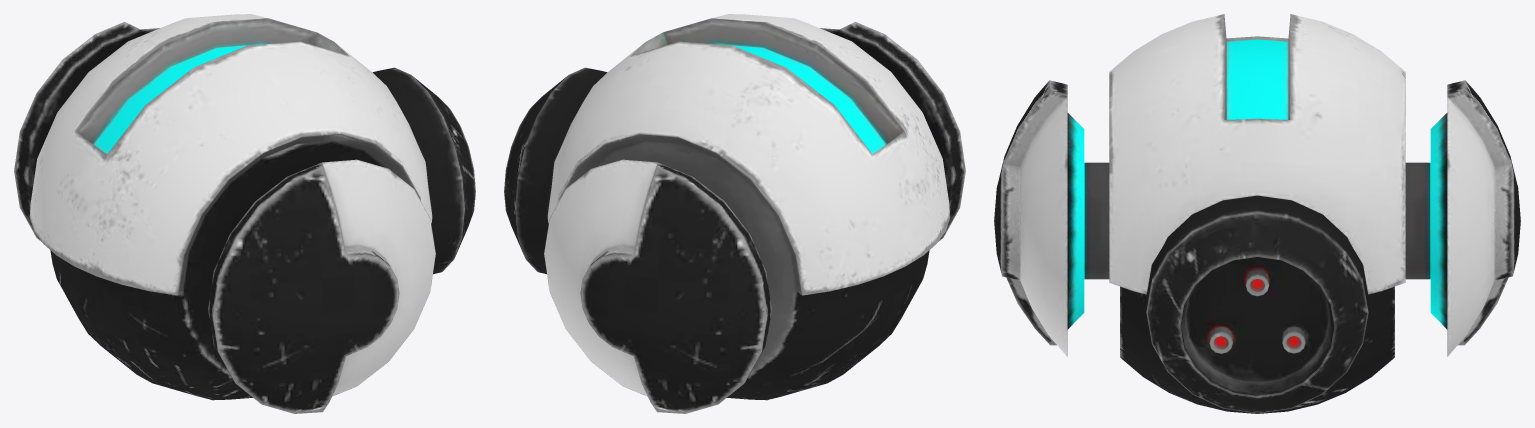
Rendered from drone.glb.
3 views of the same model, side by side, from view 1: azimuth 30°, elevation 25°; view 2: azimuth 150°, elevation 25°; view 3: azimuth 270°, elevation 25° (orthographic). The views are drawn at different scales.
Visible parts, largest first — view 1: Object_2; view 2: Object_2; view 3: Object_2.
Part boxes in pixels (x1,y1,x2,y2): Object_2: [14, 14, 475, 413]; Object_2: [504, 14, 965, 413]; Object_2: [994, 14, 1520, 413].
Size of the model in its own units: 831 by 726 by 949.
Materials: 1 (1 with a texture image).
